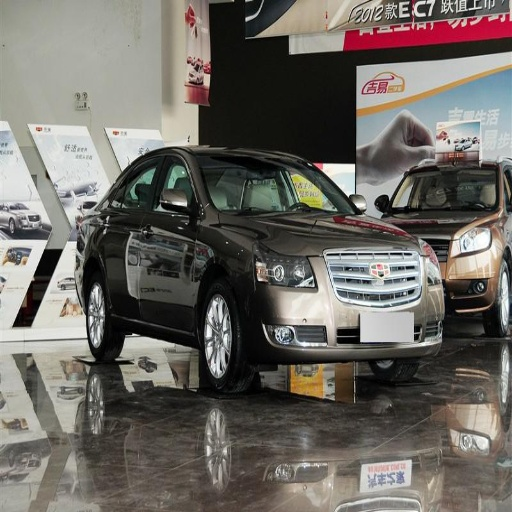front_bumper: (242, 252, 452, 360)
front_right_door: (139, 151, 196, 327)
front_right_light: (255, 244, 318, 289)
